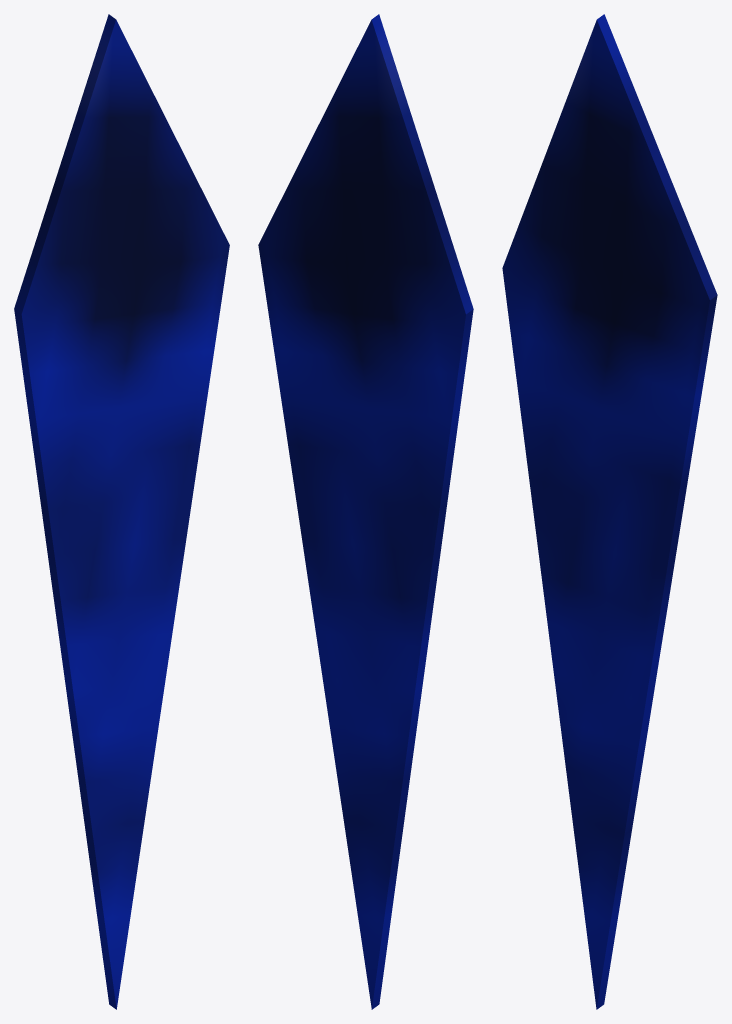
Rendered from feather_01.dae.
The picture shows the model from 3 angles, left to right: view 1: azimuth 30°, elevation 25°; view 2: azimuth 150°, elevation 25°; view 3: azimuth 330°, elevation 25°; orthographic projection.
Parts seen in each view (by area): view 1: a_feather_01; view 2: a_feather_01; view 3: a_feather_01.
Part boxes in pixels (box(x1,y1,x2,y2)): a_feather_01: box(14, 14, 229, 1009); a_feather_01: box(258, 14, 473, 1009); a_feather_01: box(502, 14, 717, 1009).
Bounding box in the file's own units: 0.1589 × 0.0106 × 0.7231.
